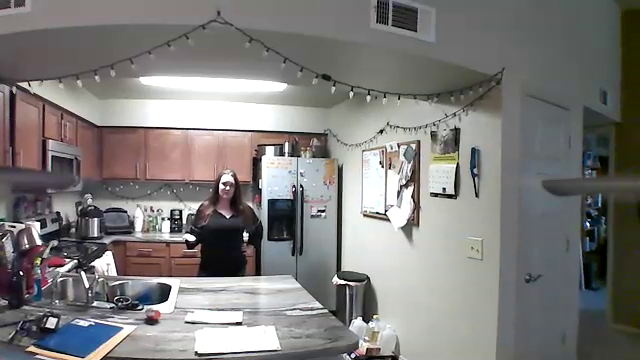land: (179, 232, 203, 247)
